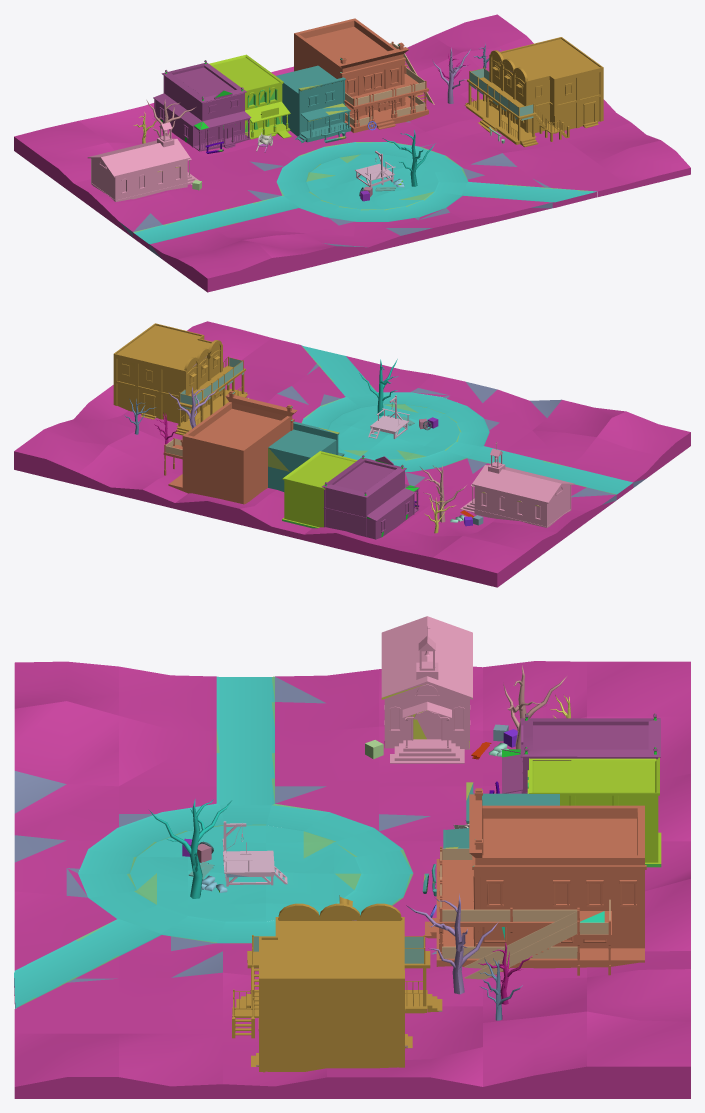
File: Western Town.fbx
The picture shows the model from 3 angles, top to bottom: view 1: azimuth 30°, elevation 25°; view 2: azimuth 150°, elevation 25°; view 3: azimuth 270°, elevation 25°; orthographic projection. The views are drawn at different scales.
Visible parts, largest first — view 1: 010-0-10, 030-0-30, 019-0-19, 028-0-28, 020-0-20, 003-0-3, 001-0-1, 029-0-29, 027-0-27, 018-0-18, 000-0-0, 023-0-23 (+1 smaller); view 2: 010-0-10, 030-0-30, 019-0-19, 028-0-28, 020-0-20, 003-0-3, 029-0-29, 001-0-1, 000-0-0, 018-0-18, 022-0-22, 023-0-23; view 3: 010-0-10, 030-0-30, 028-0-28, 019-0-19, 003-0-3, 020-0-20, 029-0-29, 027-0-27, 001-0-1, 000-0-0, 026-0-26, 023-0-23 (+1 smaller).
Boxes of the visible parts, left/top/right/bottom form: 010-0-10: left=14, top=14, right=690, bottom=292; 030-0-30: left=133, top=142, right=596, bottom=244; 019-0-19: left=464, top=37, right=603, bottom=147; 028-0-28: left=294, top=18, right=428, bottom=132; 020-0-20: left=153, top=60, right=251, bottom=151; 003-0-3: left=87, top=115, right=202, bottom=201; 001-0-1: left=276, top=65, right=351, bottom=143; 029-0-29: left=209, top=54, right=291, bottom=139; 027-0-27: left=345, top=43, right=434, bottom=126; 018-0-18: left=469, top=68, right=533, bottom=120; 000-0-0: left=355, top=151, right=395, bottom=187; 023-0-23: left=382, top=130, right=434, bottom=186; 010-0-10: left=14, top=321, right=690, bottom=587; 030-0-30: left=301, top=345, right=632, bottom=494; 019-0-19: left=113, top=323, right=247, bottom=435; 028-0-28: left=163, top=390, right=297, bottom=504; 020-0-20: left=322, top=455, right=419, bottom=539; 003-0-3: left=460, top=442, right=574, bottom=527; 029-0-29: left=282, top=451, right=357, bottom=528; 001-0-1: left=268, top=421, right=344, bottom=491; 000-0-0: left=368, top=395, right=409, bottom=438; 018-0-18: left=180, top=358, right=243, bottom=409; 022-0-22: left=420, top=465, right=466, bottom=522; 023-0-23: left=359, top=359, right=398, bottom=416; 010-0-10: left=14, top=661, right=690, bottom=1098; 030-0-30: left=14, top=676, right=413, bottom=1008; 028-0-28: left=425, top=788, right=646, bottom=977; 019-0-19: left=232, top=895, right=442, bottom=1072; 003-0-3: left=381, top=616, right=472, bottom=763; 020-0-20: left=501, top=713, right=660, bottom=793; 029-0-29: left=527, top=757, right=661, bottom=867; 027-0-27: left=440, top=848, right=610, bottom=979; 001-0-1: left=422, top=782, right=559, bottom=896; 000-0-0: left=222, top=821, right=287, bottom=886; 026-0-26: left=406, top=893, right=498, bottom=994; 023-0-23: left=149, top=799, right=231, bottom=898.
Size of the model in its own units: 77.13 by 11.76 by 53.54.
